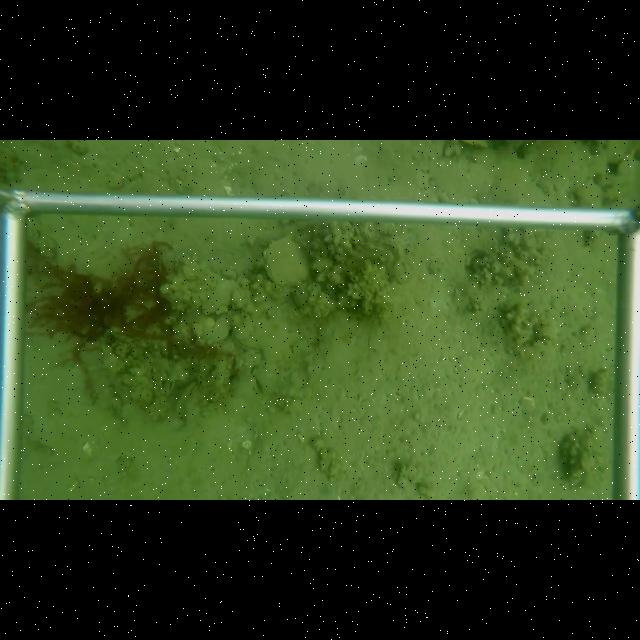Oyster-Closed: (261, 234, 312, 290), (231, 327, 263, 355), (148, 366, 162, 400)
